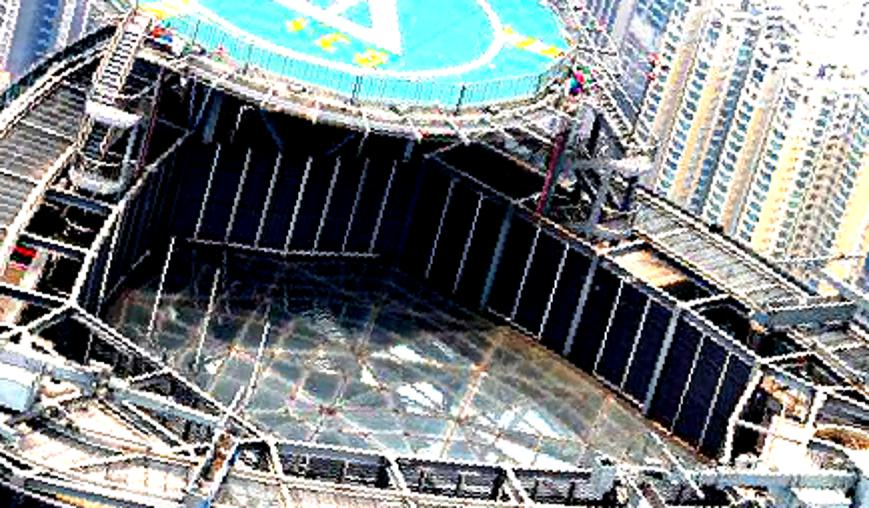Apron: (180, 1, 512, 85)
